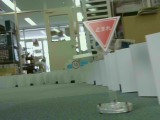stop: (81, 15, 123, 50)
